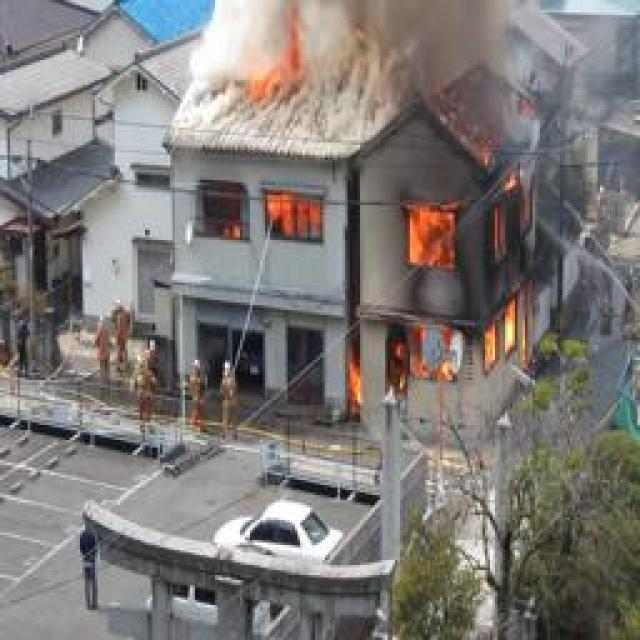Fire: (341, 164, 553, 433), (199, 192, 330, 247), (240, 25, 314, 105)
